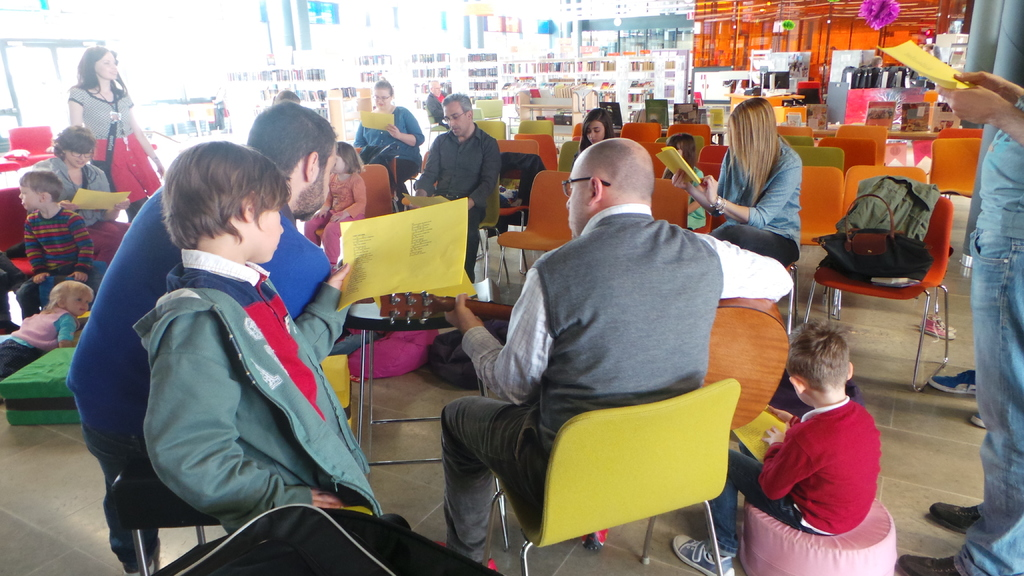Chair: (489, 381, 735, 575), (814, 163, 966, 354), (492, 171, 577, 307), (930, 138, 988, 272), (794, 161, 830, 330), (654, 142, 728, 218), (673, 159, 728, 236), (351, 167, 410, 229), (8, 121, 68, 170), (0, 184, 34, 266), (650, 175, 690, 230), (792, 137, 845, 173), (825, 132, 876, 167), (839, 124, 885, 161), (431, 103, 479, 134), (518, 137, 559, 172), (548, 138, 589, 172), (465, 93, 509, 118), (927, 125, 994, 141), (615, 123, 664, 142), (500, 138, 536, 159), (668, 124, 714, 140), (514, 120, 557, 134), (762, 92, 800, 107), (701, 149, 734, 166), (784, 128, 813, 146), (476, 120, 504, 138), (776, 106, 805, 123), (780, 124, 809, 140)
